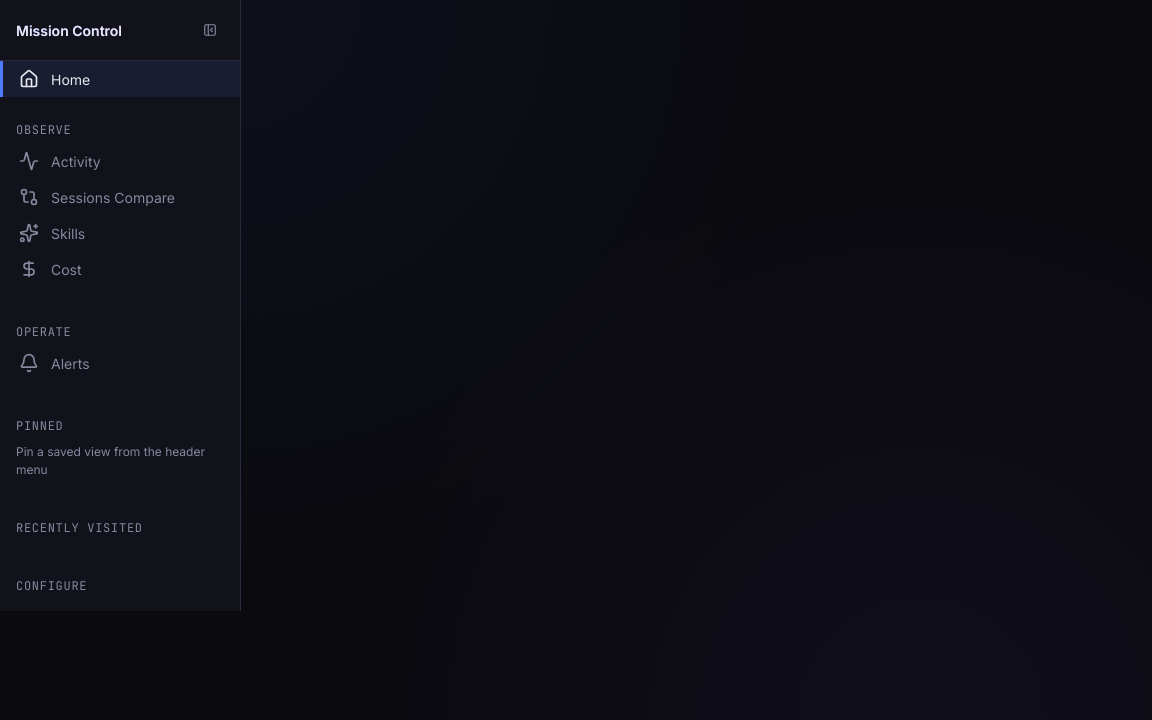
Sidebar › clicking sidebar-collapse-toggle persists collapsed=true to localStorage and dataset
Click the button with test id "sidebar-collapse-toggle": (210, 30) [196,16,224,44]
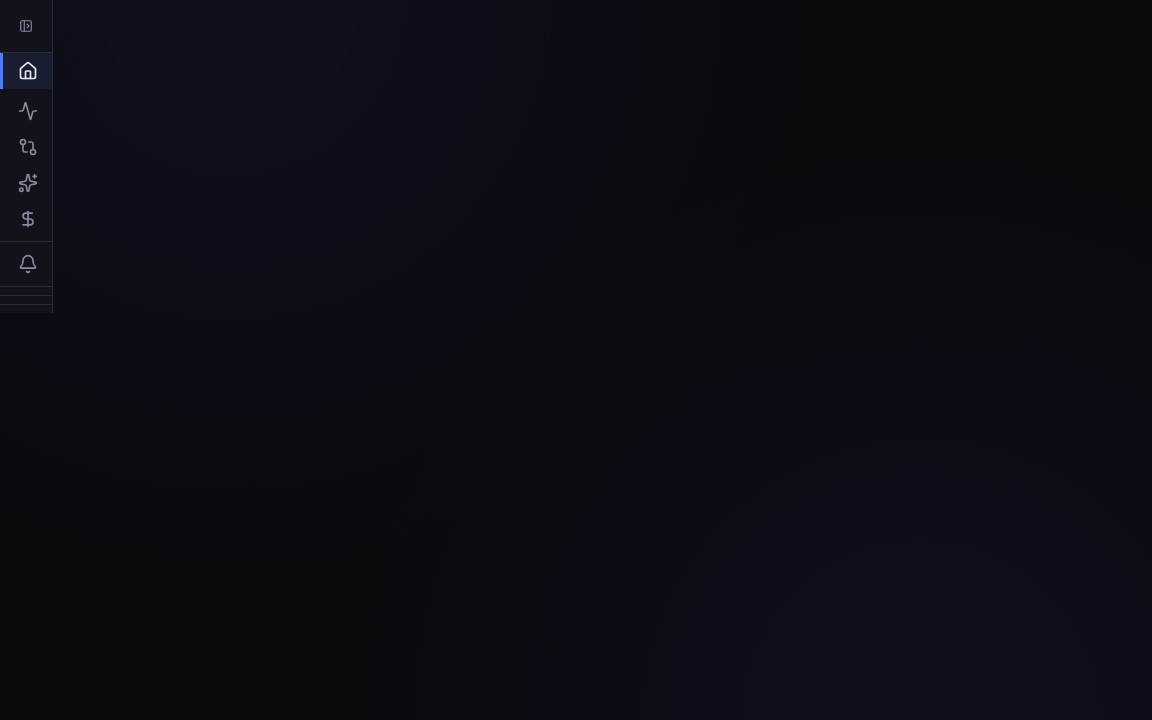
Result: the button with test id "sidebar-collapse-toggle" is collapsed at [12,12,40,40]
